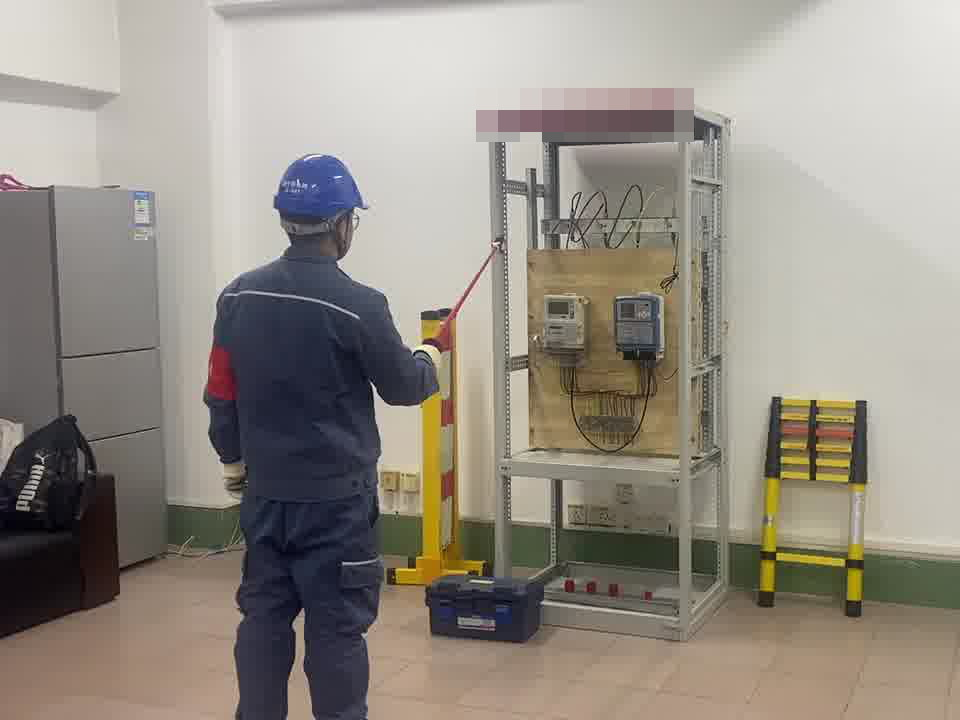badge: (205, 344, 239, 403)
downsuit: (223, 496, 387, 720)
halt: (272, 153, 369, 254)
inear: (332, 212, 360, 252)
person: (197, 151, 444, 720)
testrod: (420, 231, 507, 350)
upsuit: (201, 252, 441, 490)
wglove: (220, 456, 251, 501), (413, 343, 442, 378)
